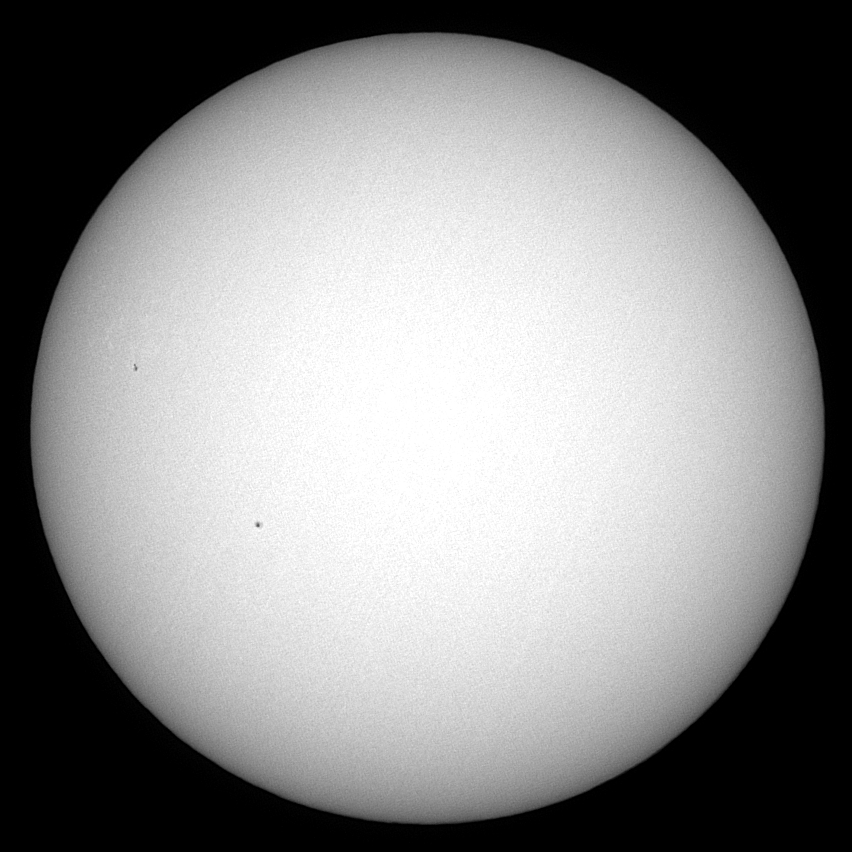sunspot: (250, 517, 267, 531), (129, 360, 141, 374)
